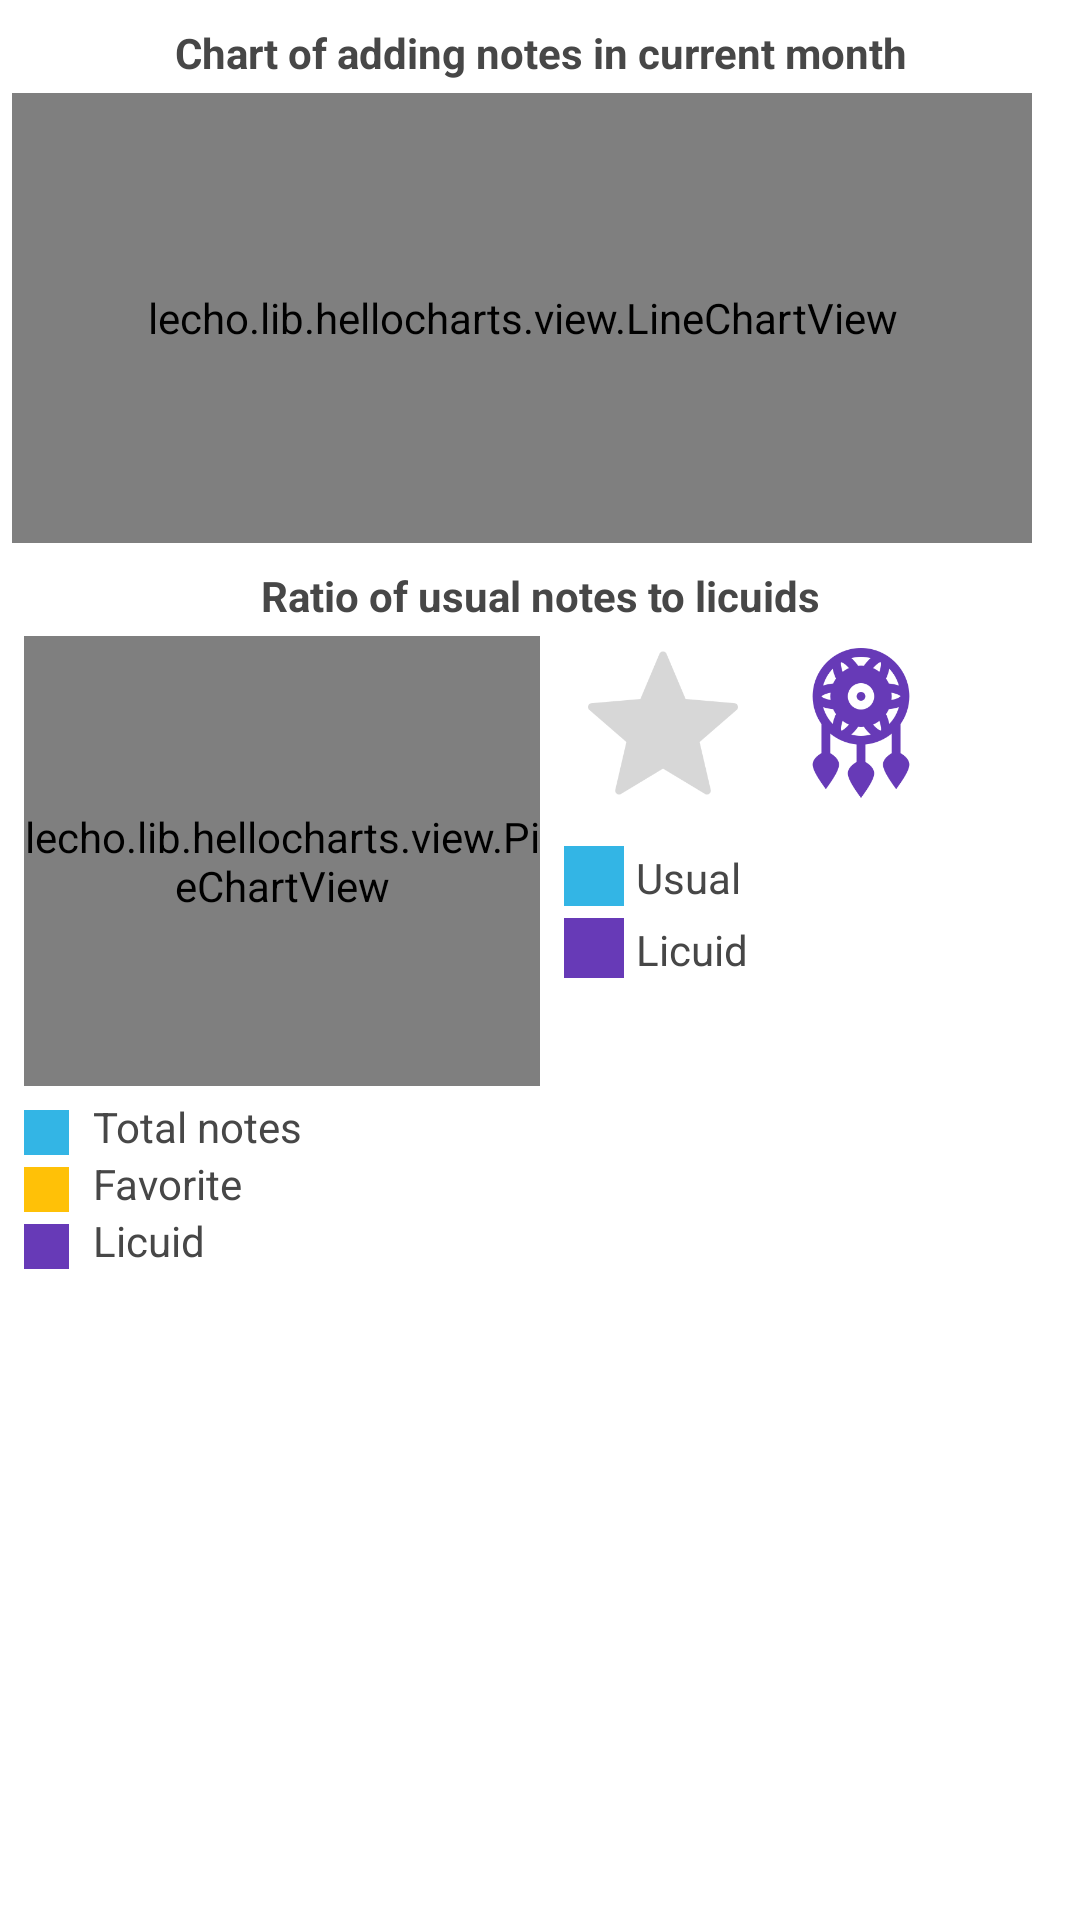

Point at icon controls on the screen. Image size 1080*1920, points as (x=x, y=y).
favorite: (x=663, y=723)
